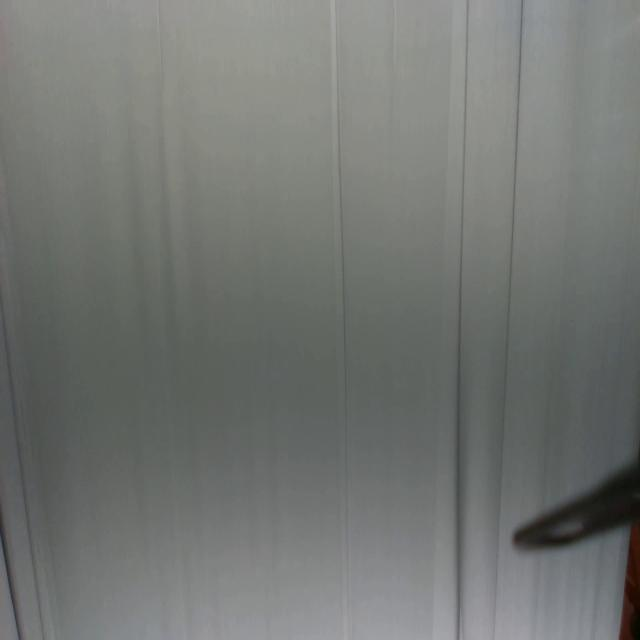crease: (491, 0, 525, 637), (0, 288, 44, 640), (329, 0, 352, 639), (456, 0, 471, 640), (156, 0, 164, 87), (391, 0, 399, 73)
